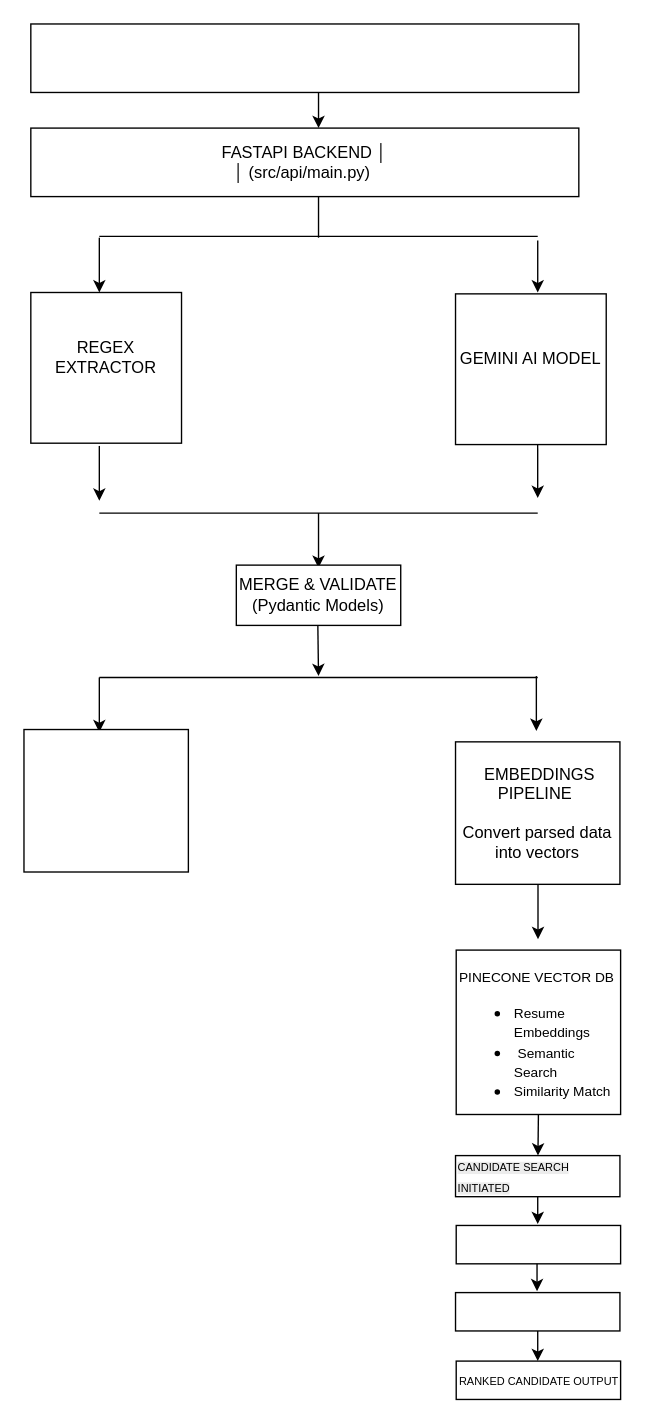
This 645x1423 diagram has some shape labels left out. The shapes that lost their labels are listed below. From the top down, each one's centre as x and y in pixels, then its label:
At point (304, 57): "USER UPLOADS RESUME (PDF)".
At point (105, 800): "DATABASE (SQL/NoSQL) Stores: Parsed Data Candidate Profile".
At point (538, 1244): "STAGE 1: VECTOR SEARCH".
At point (537, 1311): "STAGE 2: LLM Re-Ranking".
